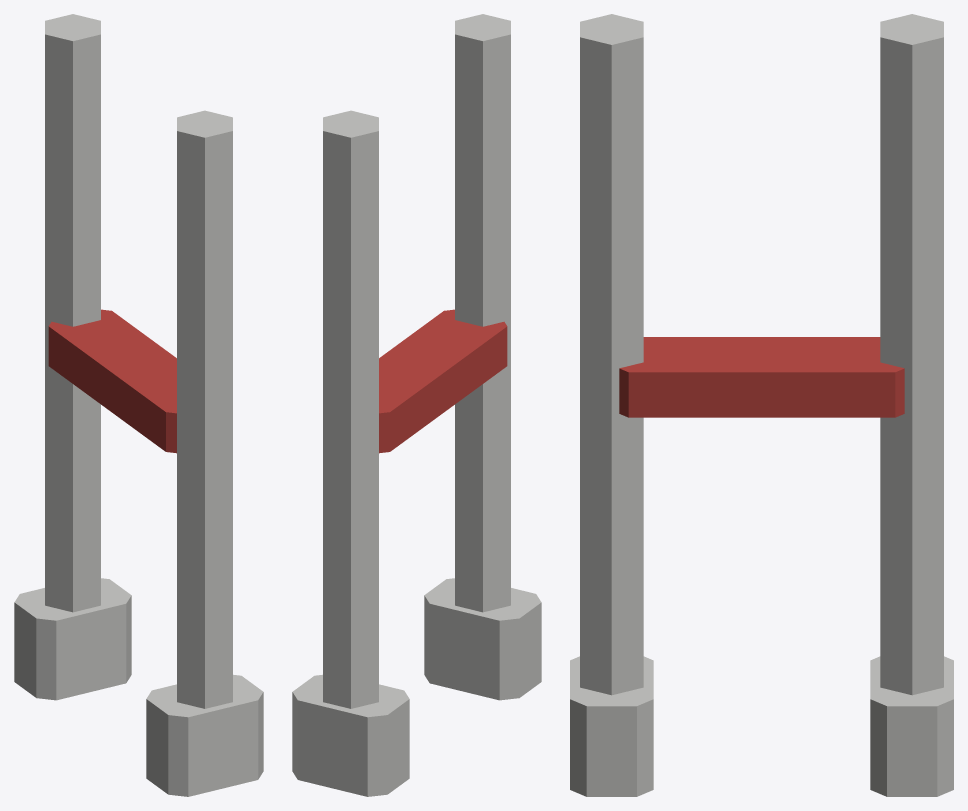
The model's file is adv_black_usd_lower_lod2.glb.
The picture shows the model from 3 angles, left to right: view 1: azimuth 30°, elevation 25°; view 2: azimuth 150°, elevation 25°; view 3: azimuth 270°, elevation 25°; orthographic projection. The views are drawn at different scales.
Parts seen in each view (by area): view 1: adv_black_usd_lower_lod2; view 2: adv_black_usd_lower_lod2; view 3: adv_black_usd_lower_lod2.
Part boxes in pixels (<box>): adv_black_usd_lower_lod2: <box>14,14,263,796</box>; adv_black_usd_lower_lod2: <box>292,14,541,796</box>; adv_black_usd_lower_lod2: <box>570,14,953,796</box>.
Bounding box in the file's own units: 0.075 × 0.49 × 0.23.
